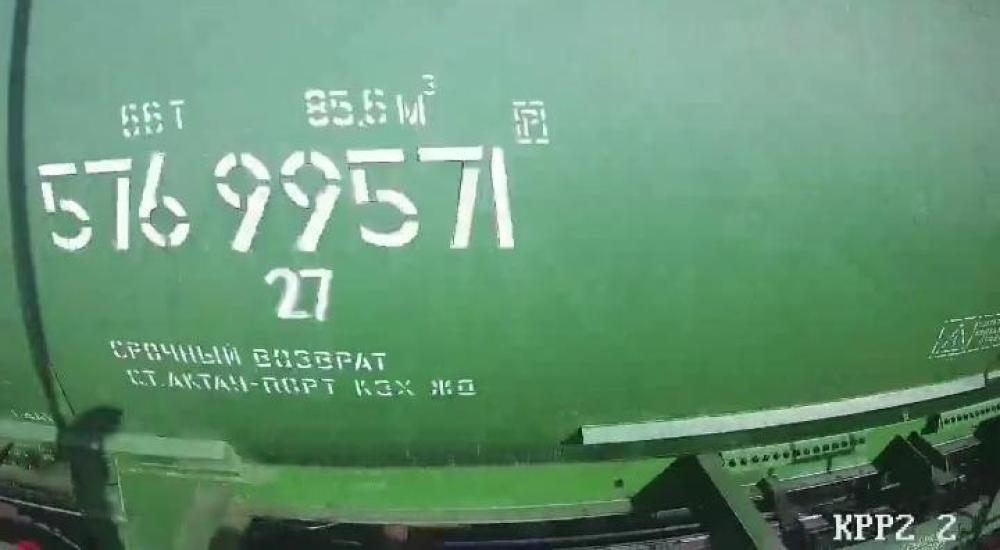Wagon-number: (37, 141, 523, 256)
